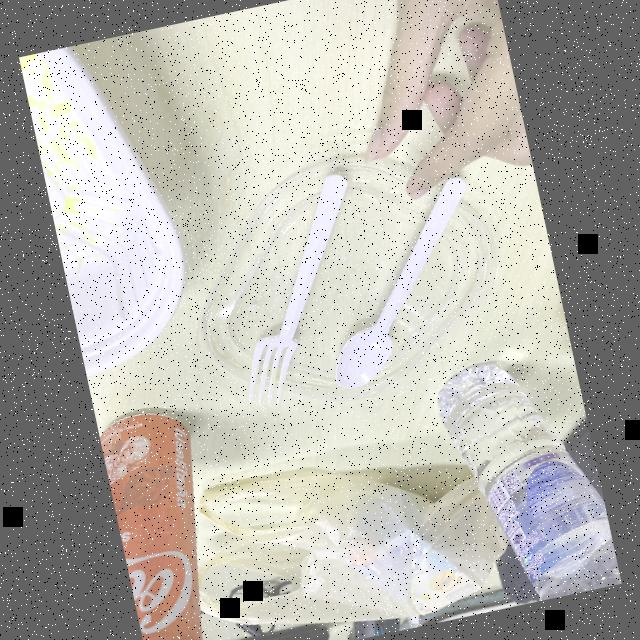plastic_spoon: (294, 172, 511, 406), (208, 170, 402, 412)
